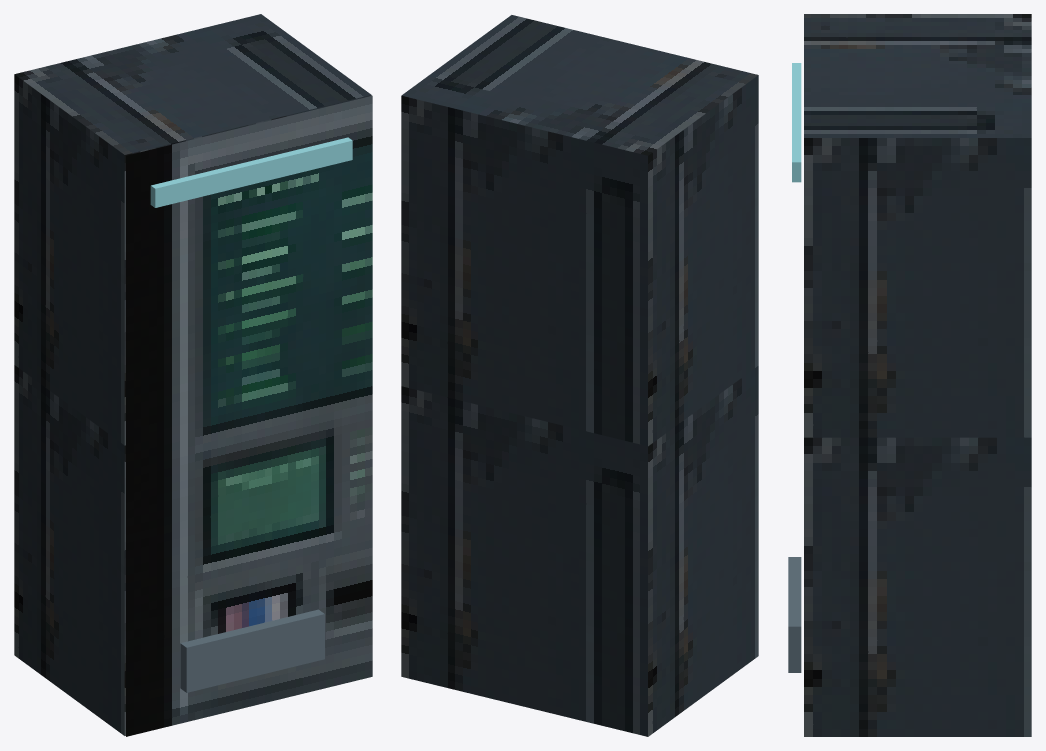
File: service_terminal.glb
The picture shows the model from 3 angles, left to right: view 1: azimuth 30°, elevation 25°; view 2: azimuth 150°, elevation 25°; view 3: azimuth 270°, elevation 25°; orthographic projection. The views are drawn at different scales.
Visible parts, largest first — view 1: service_terminal; view 2: service_terminal; view 3: service_terminal.
Part boxes in pixels (<box>): service_terminal: <box>14,14,372,736</box>; service_terminal: <box>401,15,758,736</box>; service_terminal: <box>788,14,1031,736</box>.
Bounding box in the file's own units: 0.8 × 1.8 × 0.6625.
Materials: 3 (1 with a texture image).
